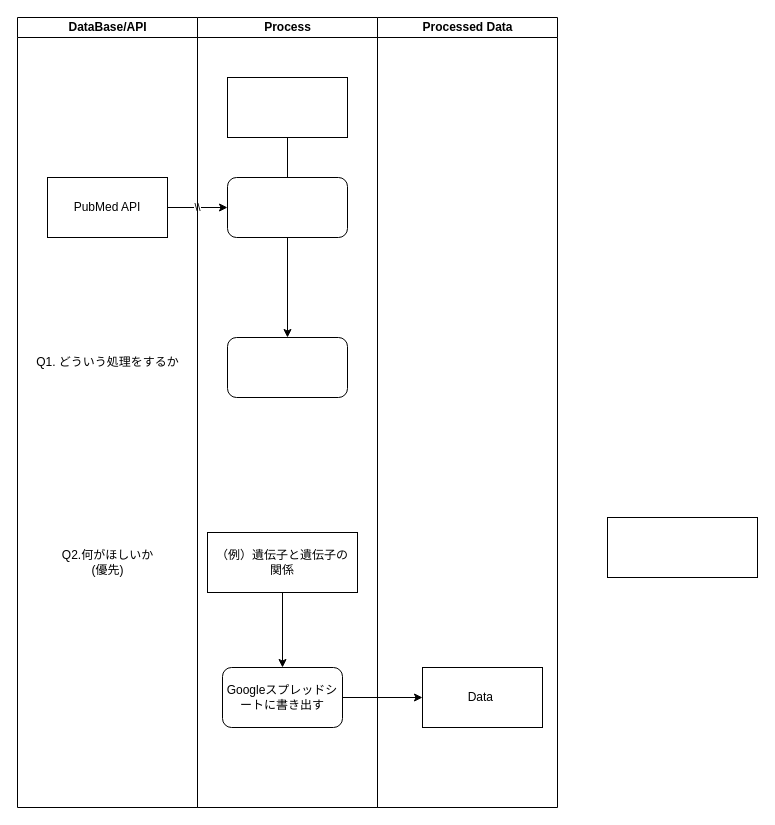
Some shapes in this 775 by 825 pixel diagram are drawn without their labels. The centre of each missing label's shape, as x and y in pixels:
"Pubmedから データを取得する" belongs at point 287,207.
"検索条件" belongs at point 287,107.
"（例）実験系 箇条書き? 特定の要素" belongs at point 682,547.
